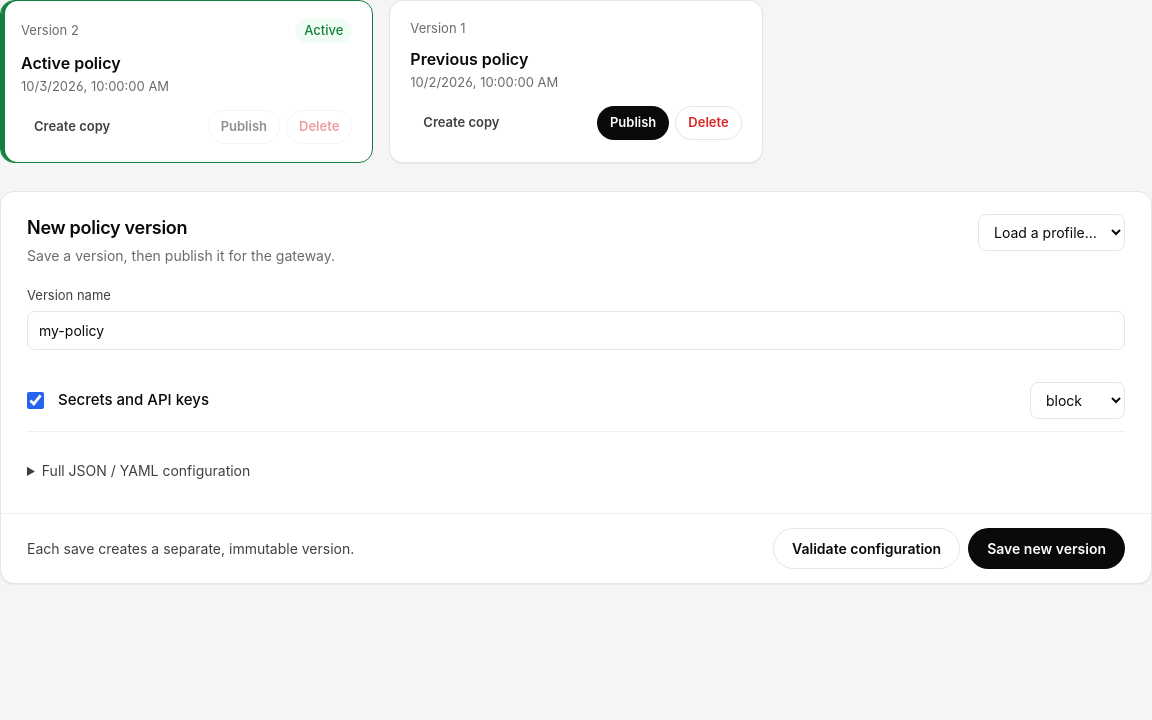
Test: Policies › deletes a confirmed revision and refreshes the list
What coordinates should you click on to do the following:
click the button "Delete" below "10/2/2026, 10:00:00 AM"
I would click on:
 (708, 123)
Its box is left=675, top=106, right=742, bottom=140.
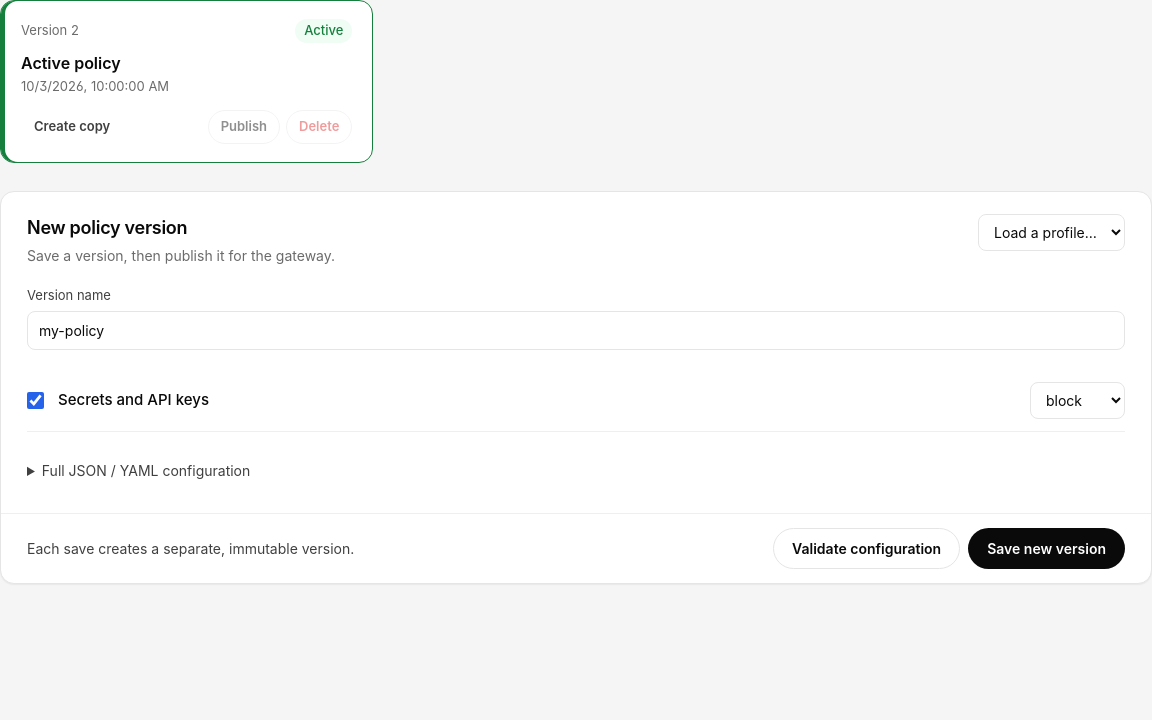
Check: the heading "Active policy" is shown, box left=21, top=52, right=121, bottom=72
Check: the heading "Previous policy" is gone
